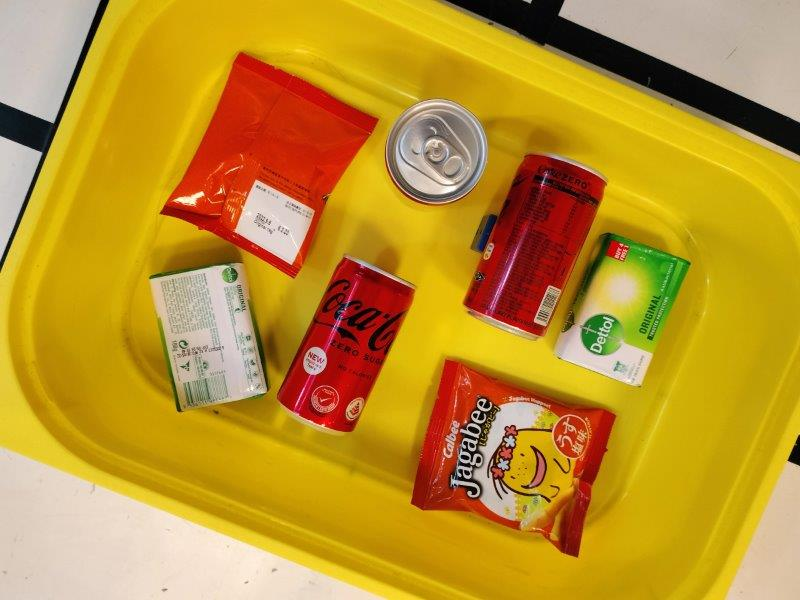Coke: (463, 153, 610, 340), (276, 255, 418, 436), (386, 98, 489, 207)
Dettol: (554, 234, 690, 387), (148, 262, 270, 412)
Jagabee: (160, 53, 379, 279), (410, 359, 618, 559)
